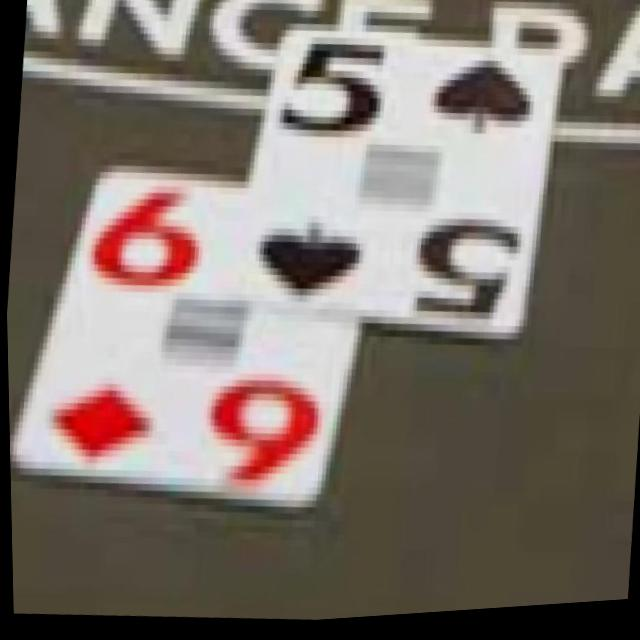Card-5: (224, 30, 561, 349)
Card-6: (9, 170, 358, 510)
